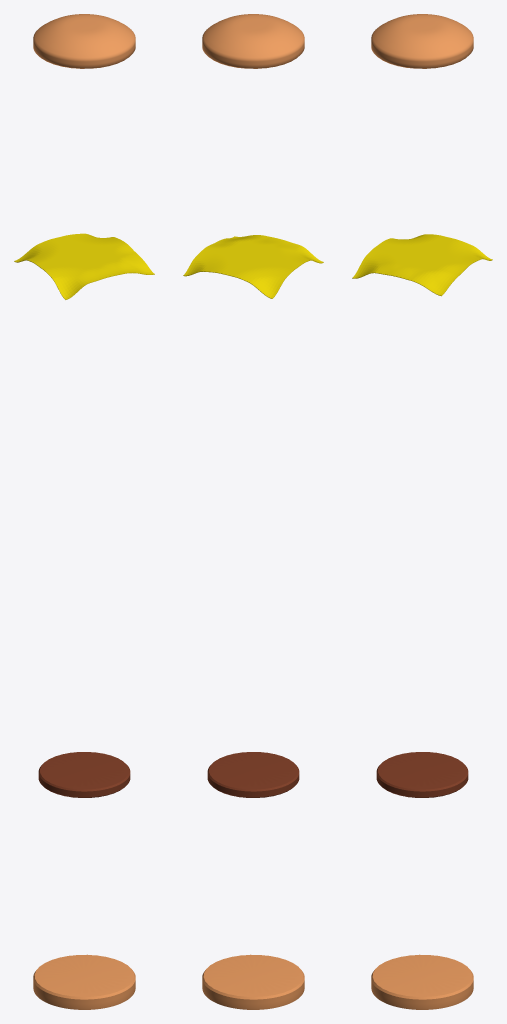
File: pls.glb
3 renders of one model, left to right at view 1: azimuth 30°, elevation 25°; view 2: azimuth 150°, elevation 25°; view 3: azimuth 330°, elevation 25°, orthographic.
Visible parts, largest first — view 1: Plane, Cylinder, Cylinder.003, Cylinder.001; view 2: Cylinder, Cylinder.003, Plane, Cylinder.001; view 3: Cylinder, Plane, Cylinder.003, Cylinder.001.
Boxes of the visible parts, <box> form: Plane: <box>14,233,154,299</box>; Cylinder: <box>33,954,135,1009</box>; Cylinder.003: <box>33,14,135,68</box>; Cylinder.001: <box>38,752,130,797</box>; Cylinder: <box>202,954,304,1009</box>; Cylinder.003: <box>202,14,304,68</box>; Plane: <box>183,235,323,298</box>; Cylinder.001: <box>207,752,299,797</box>; Cylinder: <box>371,954,473,1009</box>; Plane: <box>352,234,492,296</box>; Cylinder.003: <box>371,14,473,68</box>; Cylinder.001: <box>376,752,468,797</box>.
Bounding box in the file's own units: 3.06 × 31.58 × 3.06.
